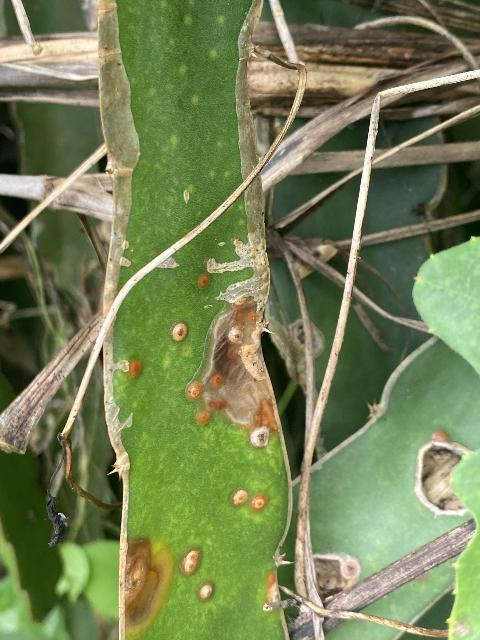stemcanker: (107, 271, 286, 638)
